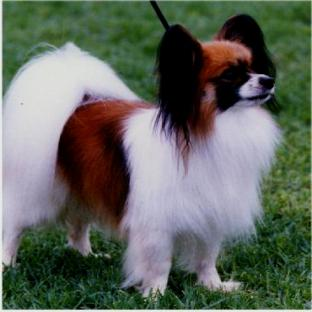Animal: (3, 15, 281, 296)
